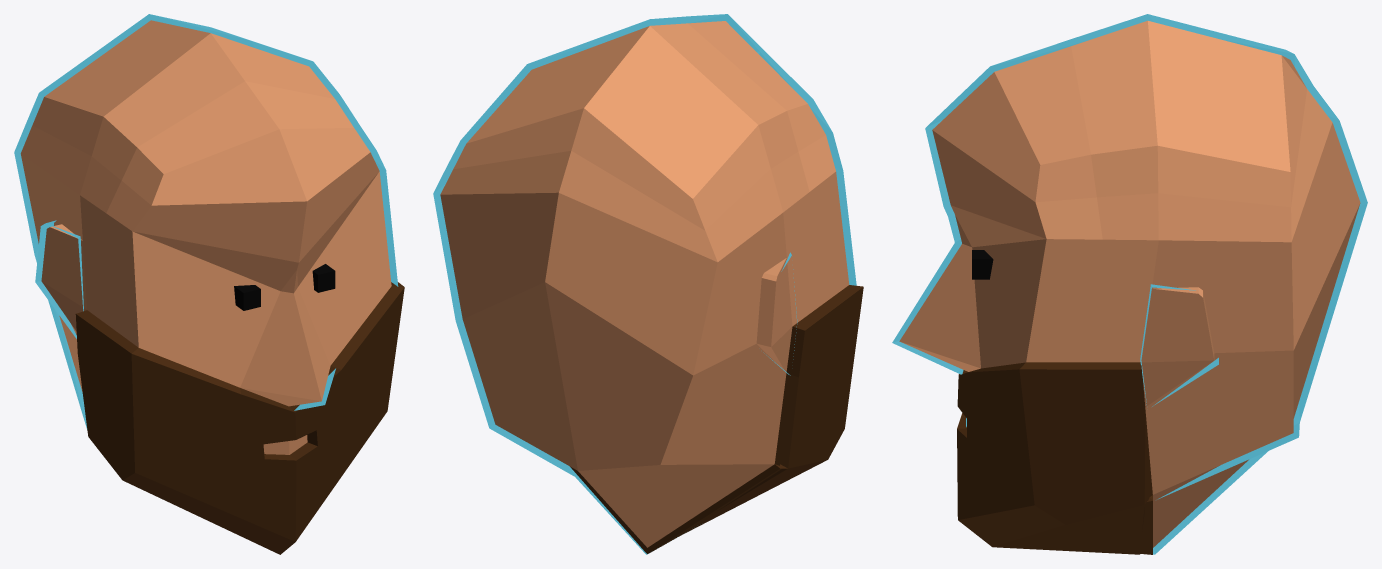
The model's file is simplehead3.gltf.
The picture shows the model from 3 angles, left to right: view 1: azimuth 30°, elevation 25°; view 2: azimuth 150°, elevation 25°; view 3: azimuth 270°, elevation 25°; orthographic projection. The views are drawn at different scales.
Visible parts, largest first — view 1: Head, Beard, Eye; view 2: Head, Beard; view 3: Head, Beard.
Boxes of the visible parts, x1=… form: Head: x1=14, y1=14, x2=398, y2=454; Beard: x1=75, y1=282, x2=404, y2=554; Eye: x1=234, y1=264, x2=335, y2=310; Head: x1=433, y1=14, x2=856, y2=554; Beard: x1=570, y1=285, x2=863, y2=553; Head: x1=892, y1=14, x2=1367, y2=554; Beard: x1=957, y1=362, x2=1152, y2=554.
Bounding box in the file's own units: 4.35 × 7 × 5.58.
